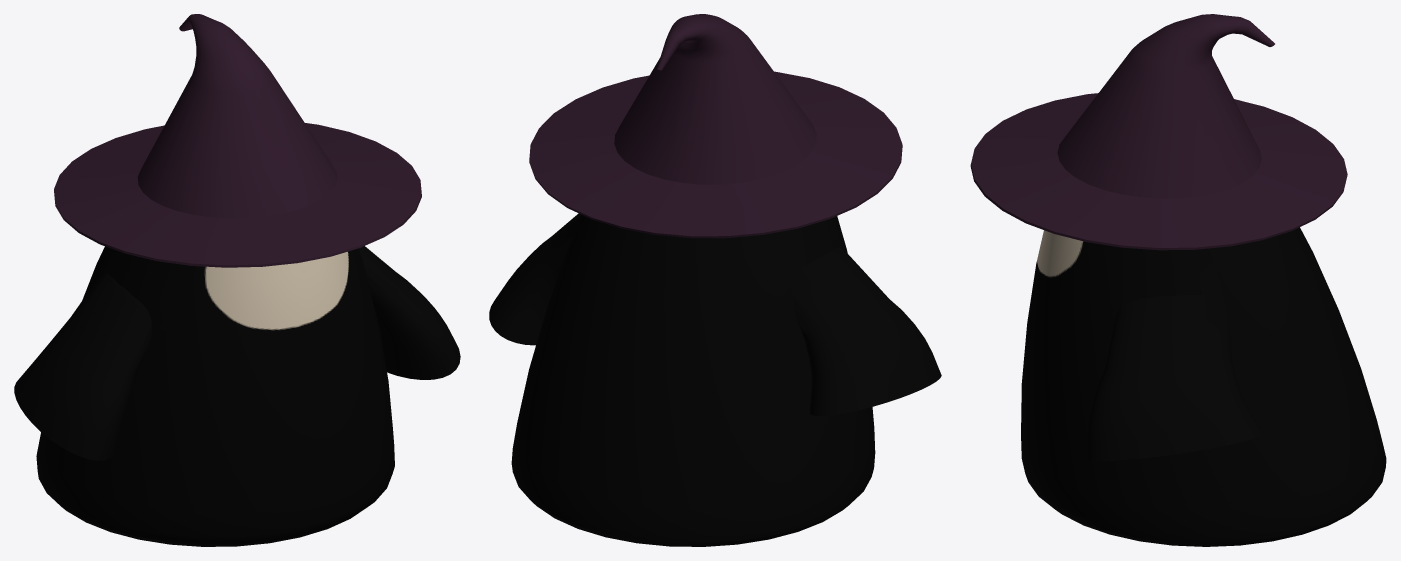
File: Core.obj
The picture shows the model from 3 angles, left to right: view 1: azimuth 30°, elevation 25°; view 2: azimuth 150°, elevation 25°; view 3: azimuth 270°, elevation 25°; orthographic projection.
Parts seen in each view (by area): view 1: 円柱; view 2: 円柱; view 3: 円柱.
Boxes of the visible parts, box(x1,y1,x2,y2) form: 円柱: box(14, 14, 460, 546); 円柱: box(489, 14, 941, 546); 円柱: box(970, 14, 1386, 546).
Bounding box in the file's own units: 2.59 × 2.75 × 2.26.
Materials: 1 (1 with a texture image).
